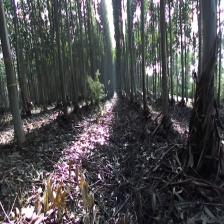trunk: (186, 1, 221, 159), (0, 0, 27, 146), (54, 5, 68, 119), (159, 0, 169, 122), (140, 0, 149, 111), (67, 26, 78, 110), (79, 19, 88, 106)
